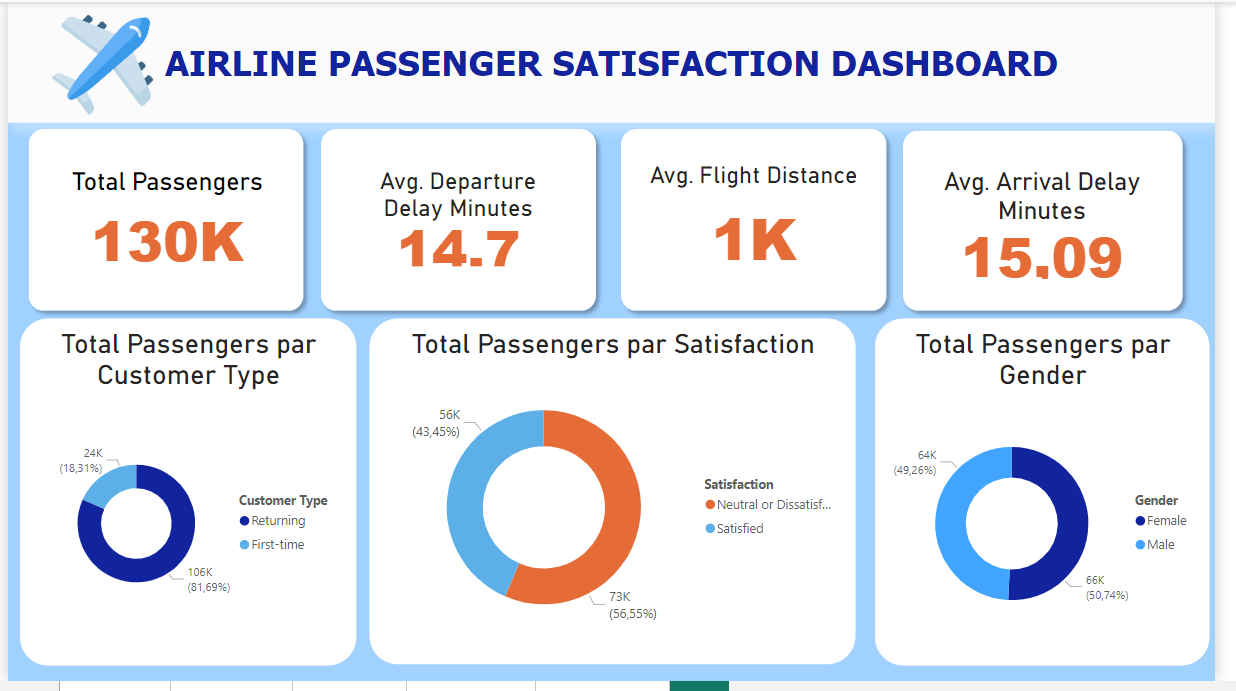

Layout of this report page (visuals, bound fields, positions):
{"tool":"powerbi","page":{"name":"Home","canvas":[1280,720],"ordinal":0},"visuals":[{"type":"textbox","box":[0,0,1280,127.8],"z":0,"group":"g1"},{"type":"shape","box":[13.4,125.5,309.5,210.8],"z":0},{"type":"shape","box":[940.3,127.2,314.6,209.2],"z":1000},{"type":"shape","box":[640.8,125.5,299.5,210.8],"z":2000},{"type":"shape","box":[322.9,125.5,309.5,210.8],"z":3000},{"type":"card","title":"Total Passengers","fields":{"Values":["airline_passenger_satisfaction.Total Passengers"]},"box":[50.2,175.7,235.9,118.8],"z":4000},{"type":"card","title":"Avg. Arrival Delay Minutes","fields":{"Values":["Avg(airline_passenger_satisfaction.Arrival Delay)"]},"box":[975.5,175.7,242.6,123.8],"z":5000},{"type":"card","title":"Avg. Departure Delay Minutes","fields":{"Values":["Avg(airline_passenger_satisfaction.Departure Delay)"]},"box":[361.4,175.7,232.6,110.4],"z":6000},{"type":"card","title":"Avg. Flight Distance","fields":{"Values":["Avg(airline_passenger_satisfaction.Flight Distance)"]},"box":[674.3,169,232.6,123.8],"z":7000},{"type":"donutChart","fields":{"Category":["airline_passenger_satisfaction.Customer Type"],"Y":["airline_passenger_satisfaction.Total Passengers"]},"box":[13.4,336.3,356.4,368.1],"z":8000},{"type":"donutChart","fields":{"Category":["airline_passenger_satisfaction.Gender"],"Y":["airline_passenger_satisfaction.Total Passengers"]},"box":[918.6,336.3,354.7,368.1],"z":9000},{"type":"donutChart","fields":{"Category":["airline_passenger_satisfaction.Satisfaction"],"Y":["airline_passenger_satisfaction.Total Passengers"]},"box":[383.2,336.3,515.3,366.4],"z":10000},{"type":"group","id":"g1","title":"Groupe 1","box":[0,0,1280,127.8],"z":11000},{"type":"image","box":[31.8,8.4,137.2,117.1],"z":12001}]}

Visuals, with their boxes in screenshot pixels (x1, y1, x2, y2), scaled from the page's 1280x720 canvas onto the 1236x691 screenshot:
textbox: [0, 0, 1235, 123]
shape: [13, 120, 312, 323]
shape: [908, 122, 1212, 323]
shape: [619, 120, 908, 323]
shape: [312, 120, 611, 323]
"Total Passengers" card: [48, 169, 276, 283]
"Avg. Arrival Delay Minutes" card: [942, 169, 1176, 287]
"Avg. Departure Delay Minutes" card: [349, 169, 574, 275]
"Avg. Flight Distance" card: [651, 162, 876, 281]
donutChart - airline_passenger_satisfaction.Customer Type x airline_passenger_satisfaction.Total Passengers: [13, 323, 357, 676]
donutChart - airline_passenger_satisfaction.Gender x airline_passenger_satisfaction.Total Passengers: [887, 323, 1230, 676]
donutChart - airline_passenger_satisfaction.Satisfaction x airline_passenger_satisfaction.Total Passengers: [370, 323, 868, 674]
"Groupe 1" group: [0, 0, 1235, 123]
image: [31, 8, 163, 120]
